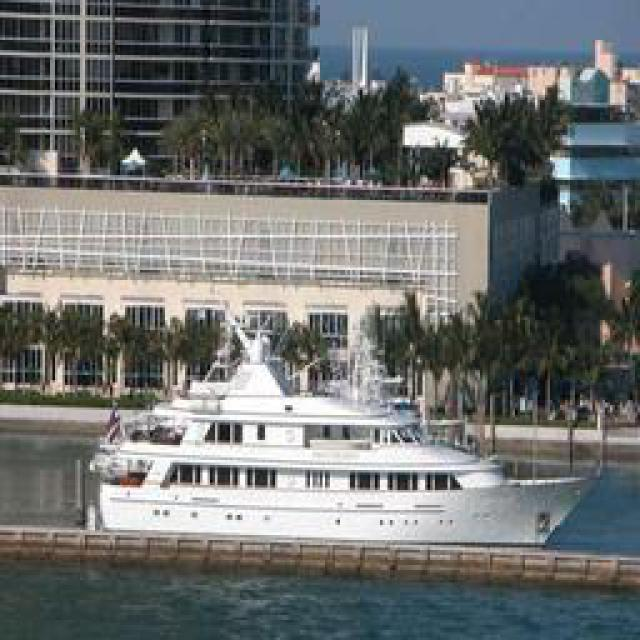Ship: (75, 365, 613, 563)
